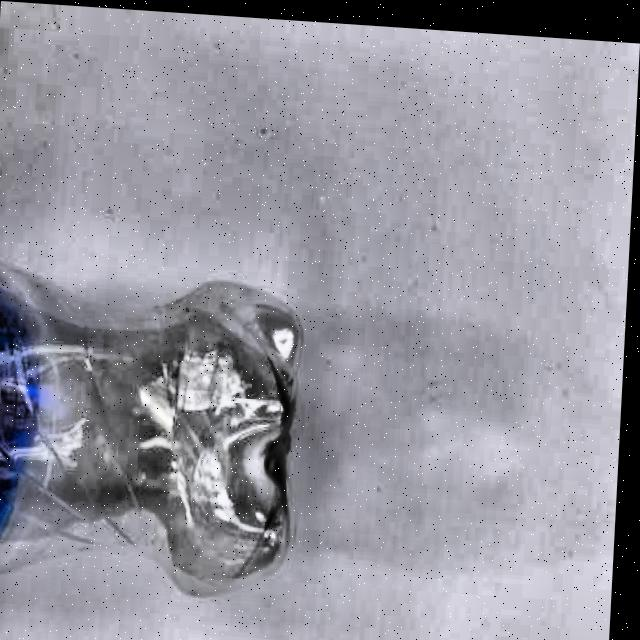plastic: (0, 241, 308, 605)
